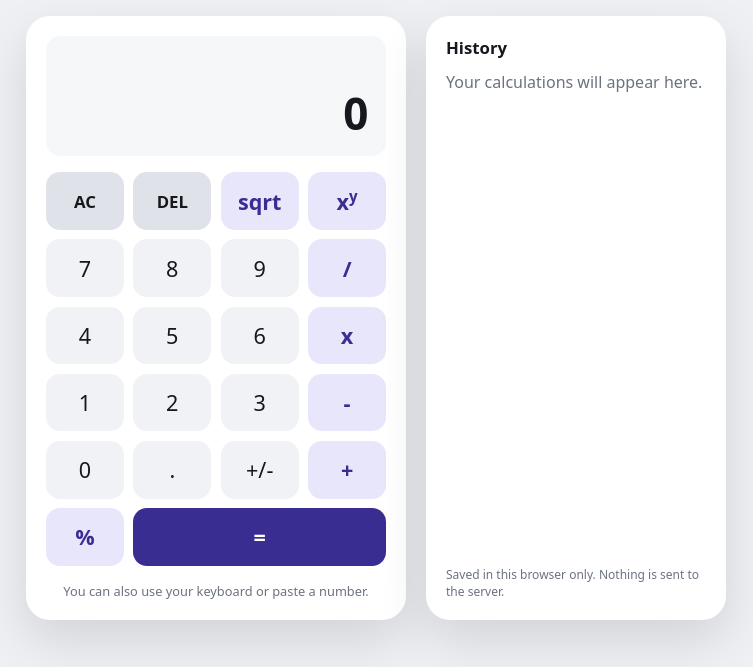
Test case: Calculator › shows API errors on the display and recovers on the next key
Click the button "1": (85, 403) [46,374,124,431]
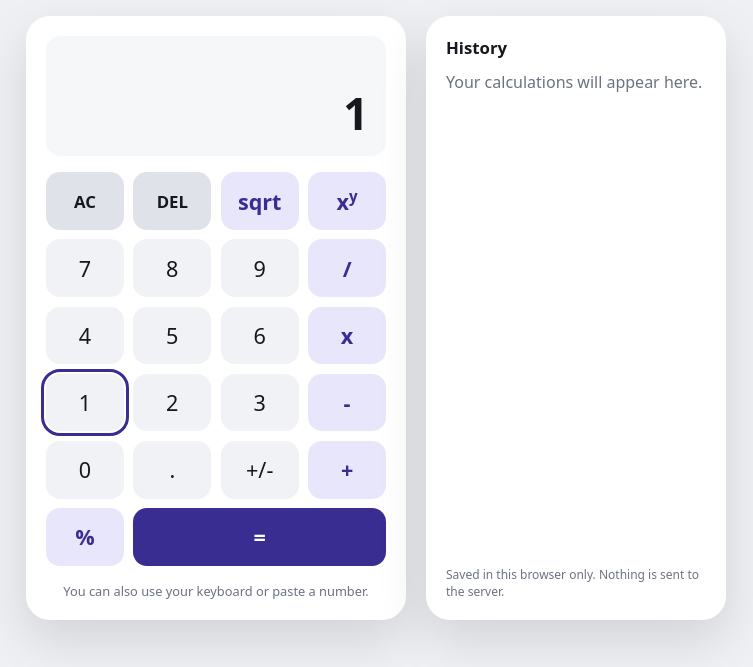
Click the button named "Divide": (347, 268) [308,239,386,297]
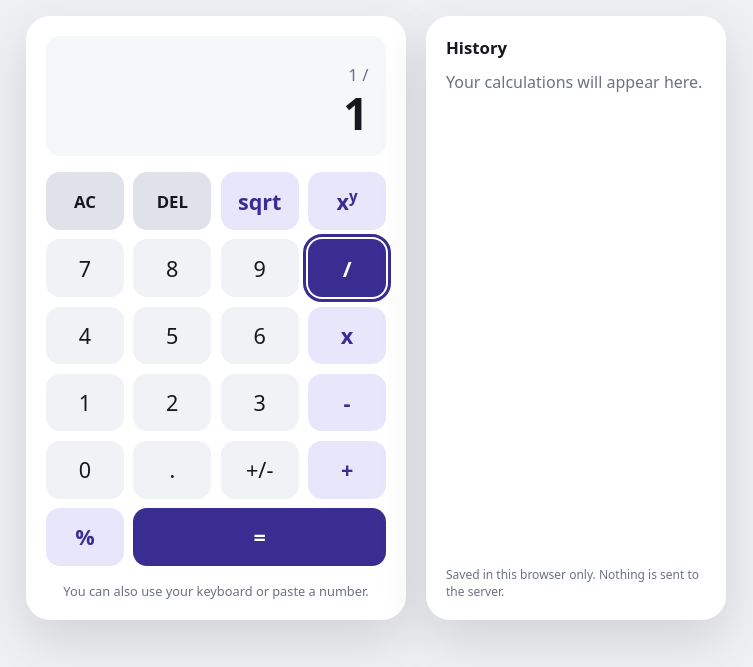
Click the button "0": (85, 470) [46,441,124,499]
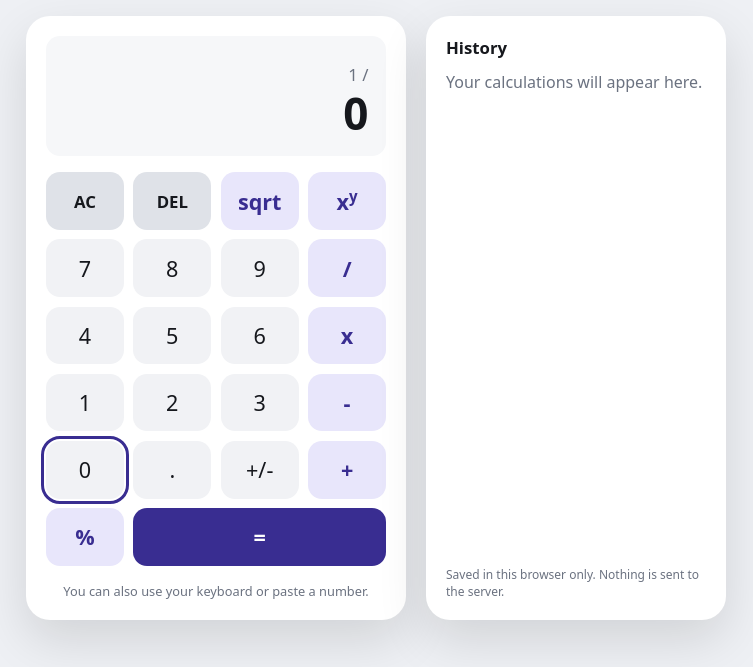
Click the button named "Equals": (260, 537) [133,508,386,566]
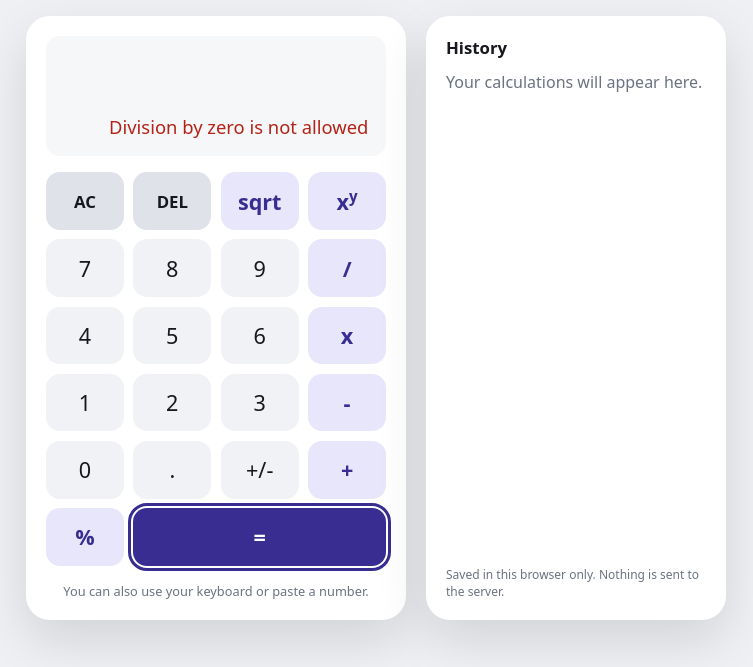
Expected: the element with test id "display" reads "Division by zero is not allowed", [109,114,368,140]
Click the button "7": (85, 268) [46,239,124,297]
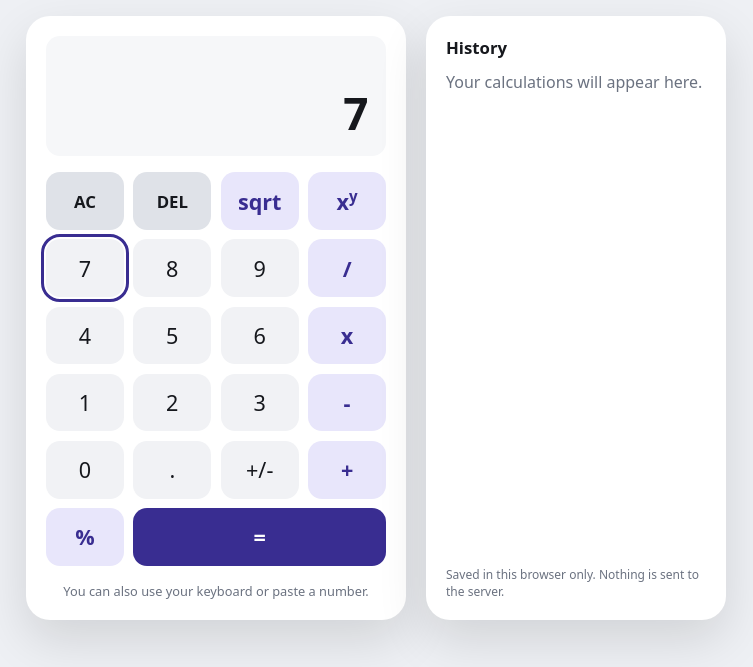
Expected: the text with test id "display" reads "7", [343,83,368,143]
